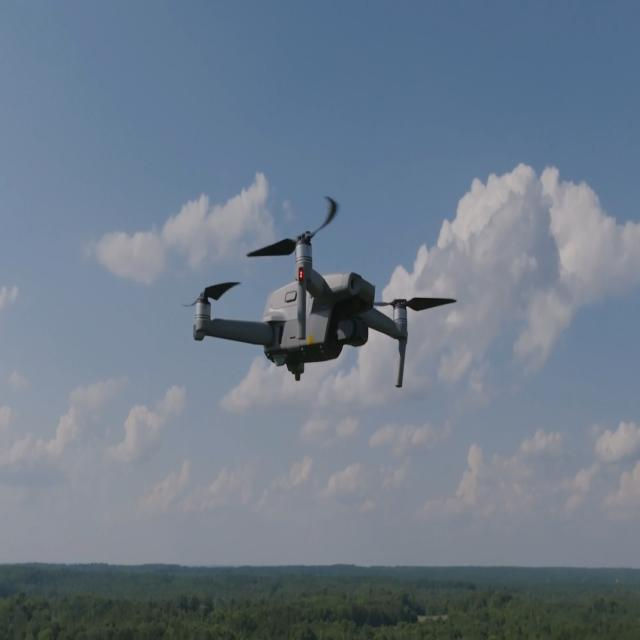Drone: (160, 233, 445, 382)
